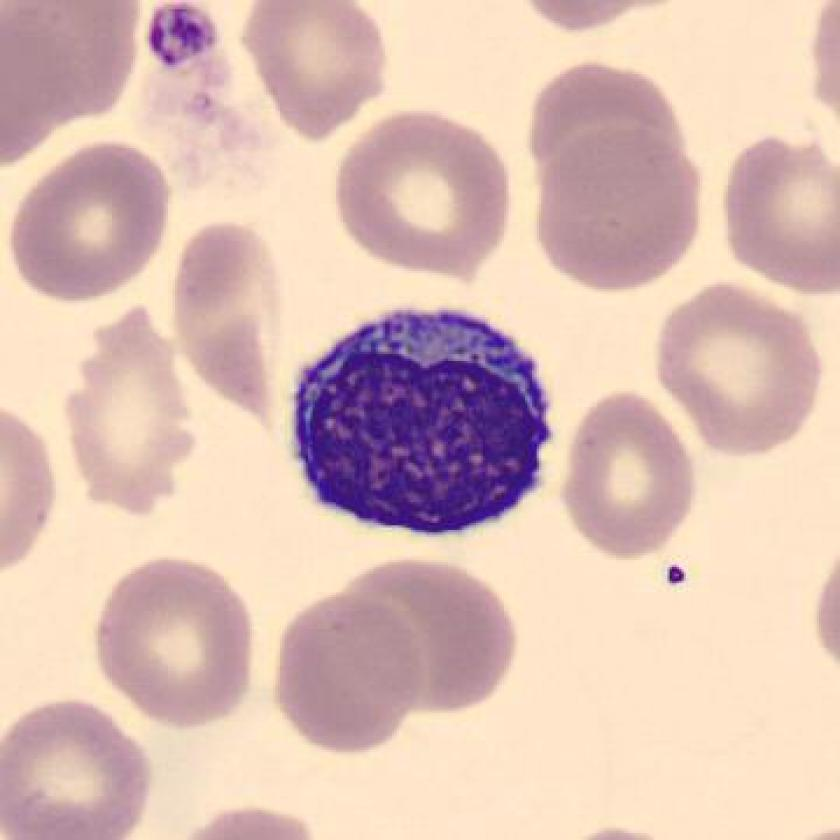lymphocyte: (281, 295, 566, 547)
